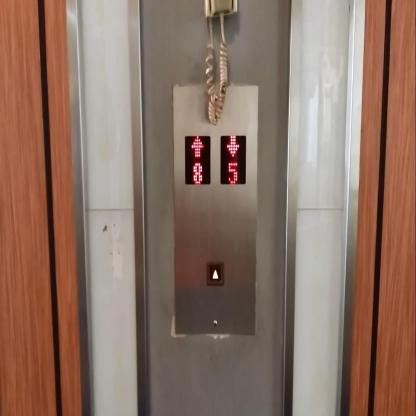led: (219, 133, 245, 185), (184, 134, 210, 184)
up: (206, 261, 225, 288)
